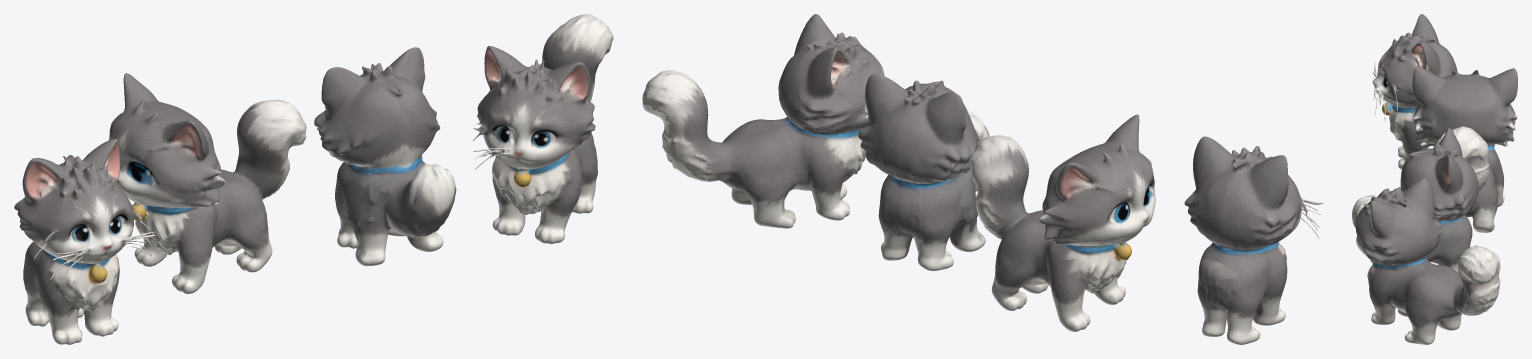
Rendered from Meshy_AI_Bluebell_the_Kitten_0904032606_texture.glb.
The picture shows the model from 3 angles, left to right: view 1: azimuth 30°, elevation 25°; view 2: azimuth 150°, elevation 25°; view 3: azimuth 270°, elevation 25°; orthographic projection. The views are drawn at different scales.
Parts seen in each view (by area): view 1: mesh_node; view 2: mesh_node; view 3: mesh_node.
Part boxes in pixels (x1,y1,x2,y2): mesh_node: [14, 14, 613, 344]; mesh_node: [642, 14, 1323, 344]; mesh_node: [1352, 14, 1517, 344].
Size of the model in its own units: 1.9 by 0.5301 by 0.5888.
1 material, 1 textured.
